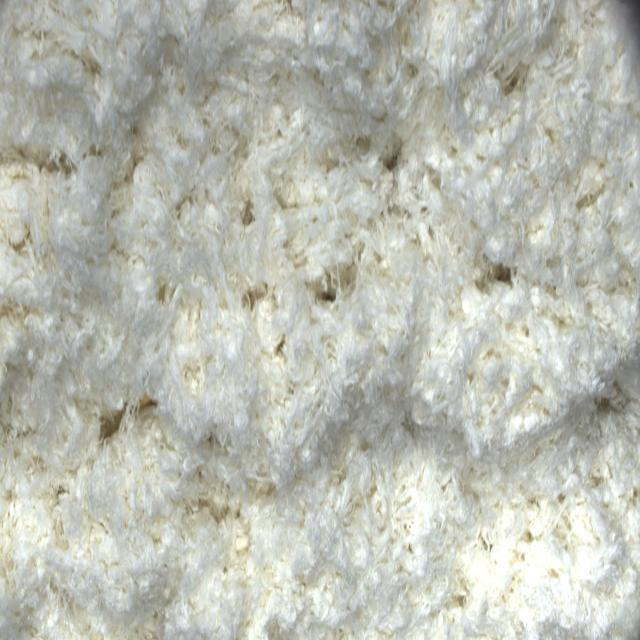dust: (480, 245, 521, 310), (97, 403, 132, 450), (384, 137, 408, 182), (317, 278, 342, 320)
